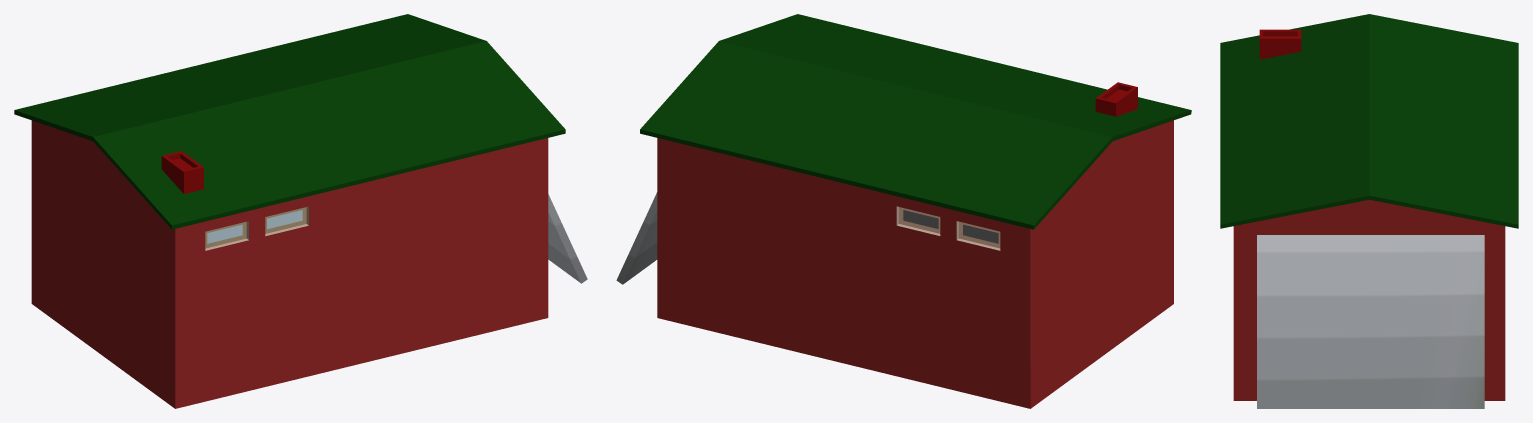
The model's file is Target_AirPort.fbx.
3 renders of one model, left to right at view 1: azimuth 30°, elevation 25°; view 2: azimuth 150°, elevation 25°; view 3: azimuth 270°, elevation 25°, orthographic. The views are drawn at different scales.
Visible parts, largest first — view 1: AirPort; view 2: AirPort; view 3: AirPort.
Boxes of the visible parts, left/top/right/bottom form: AirPort: left=14, top=14, right=587, bottom=408; AirPort: left=616, top=14, right=1191, bottom=408; AirPort: left=1220, top=14, right=1518, bottom=408.
Bounding box in the file's own units: 492 × 239 × 308.
